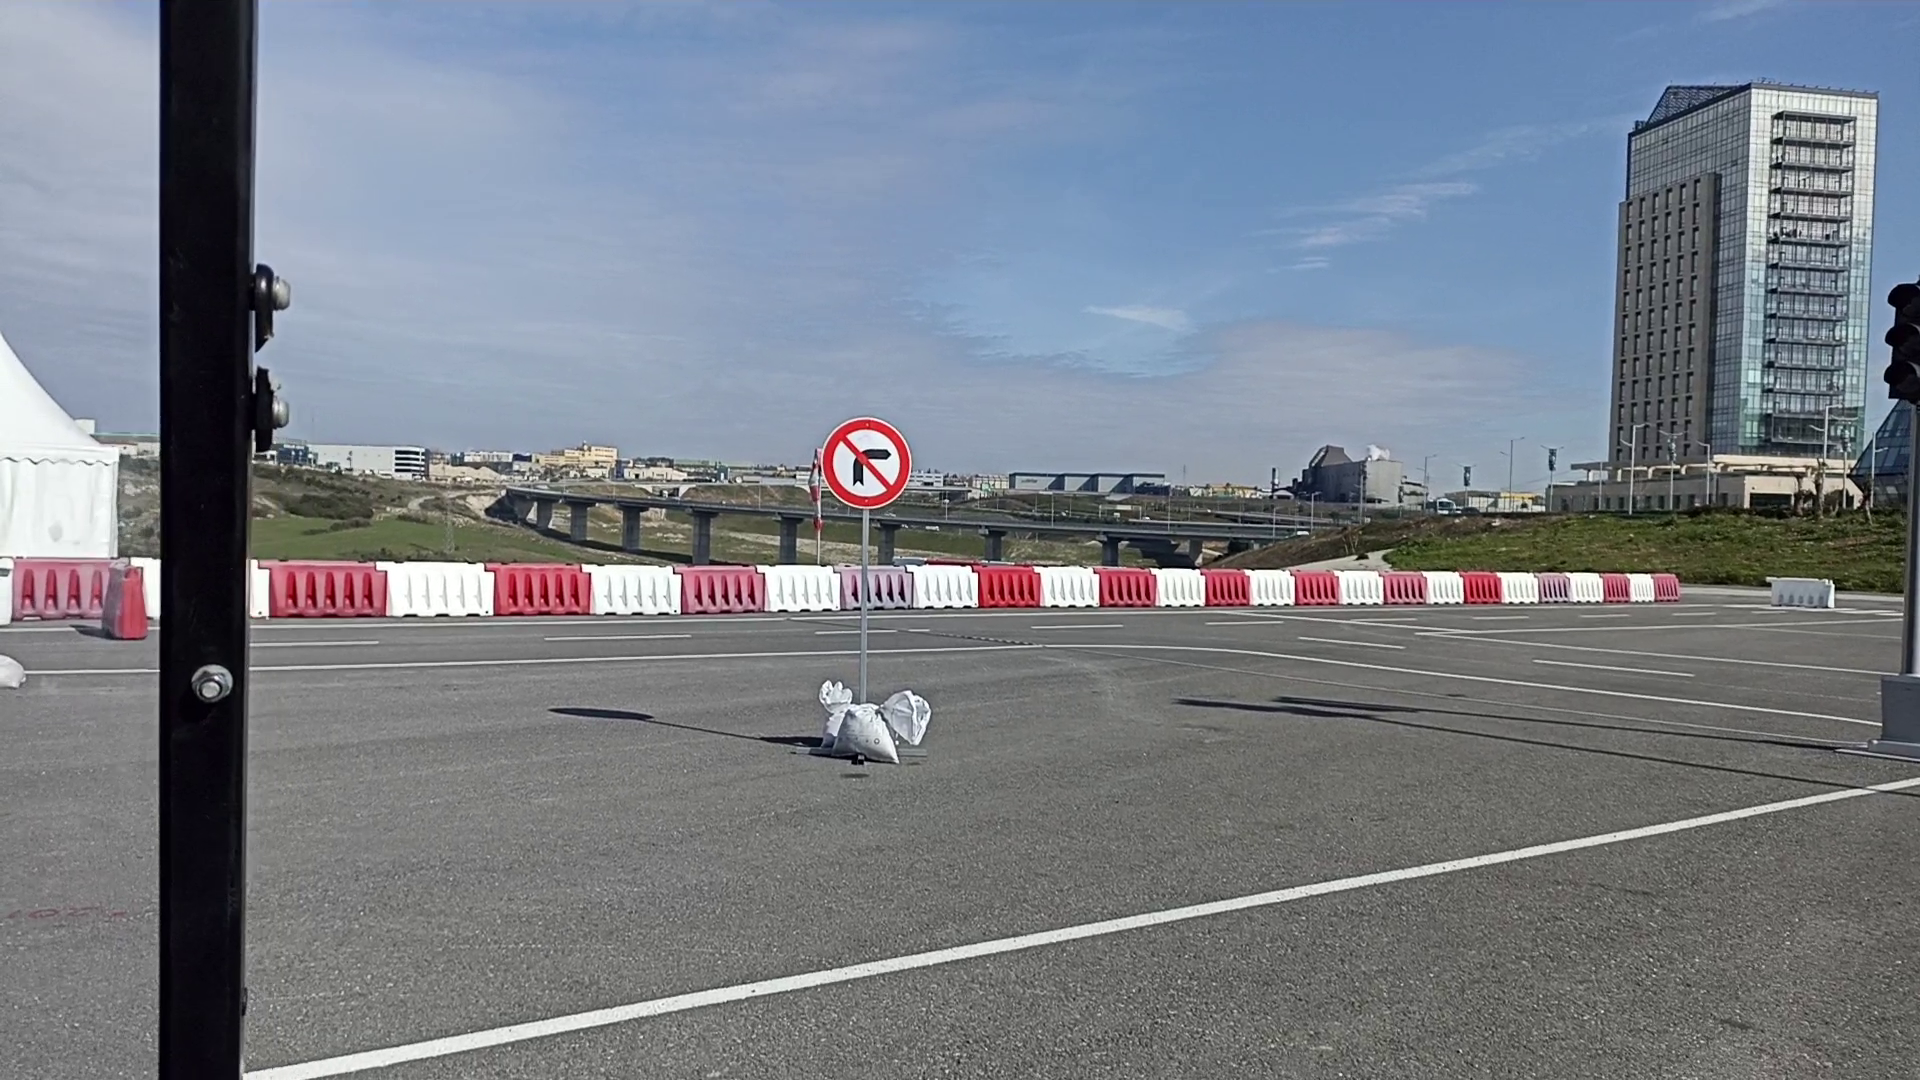noleftturn: (820, 415, 914, 510)
